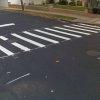Crosswalk: (0, 19, 98, 52)
